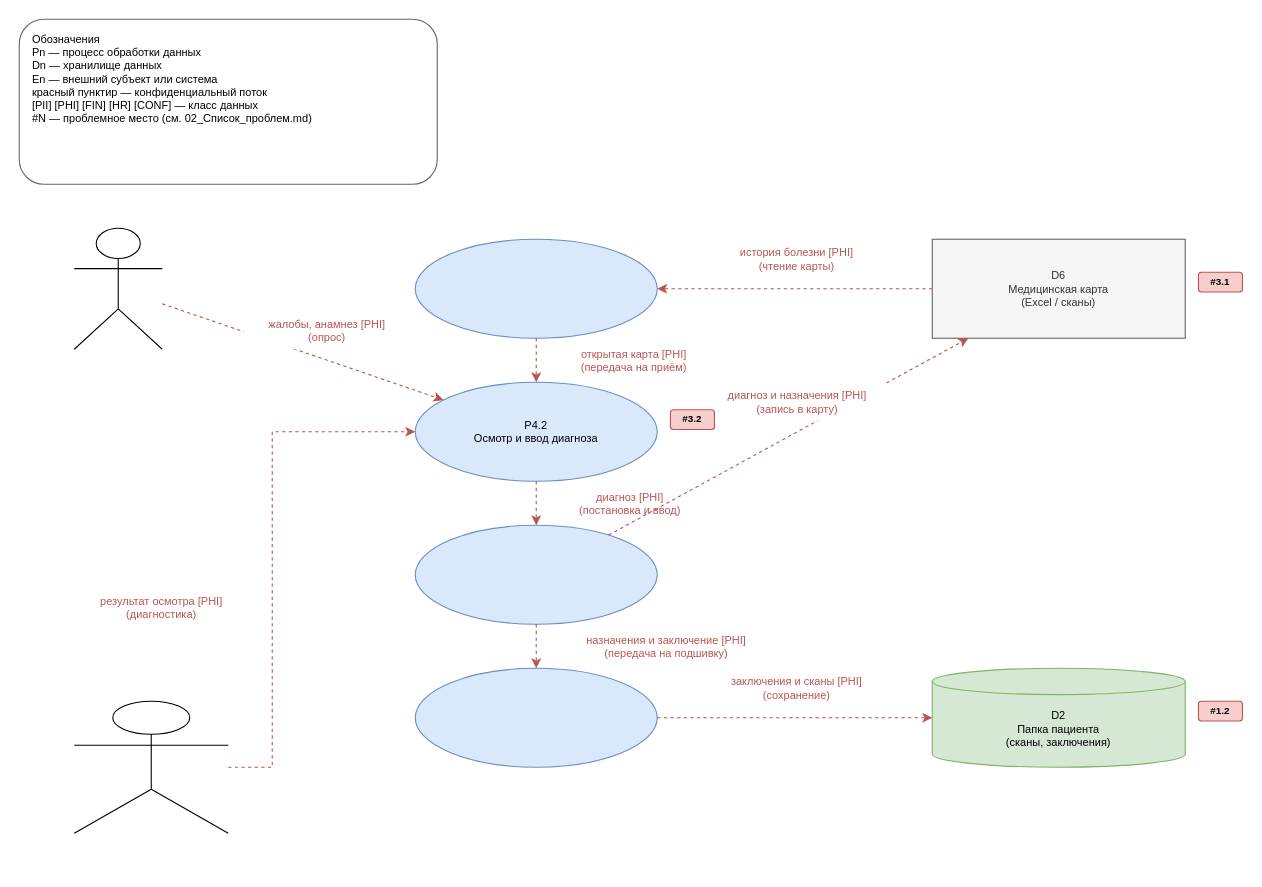
Image size: 1262x887. Some labels were removed from this diagram. The centre of each missing label's shape, as x and y in pixels:
"E1 Пациент" goes at point (117, 288).
"E2 Медицинский специалист" goes at point (150, 766).
"P4.1 Открытие медицинской карты" goes at point (535, 288).
"P4.3 Назначения и заключение" goes at point (535, 574).
"P4.4 Подшивка документов" goes at point (535, 717).
